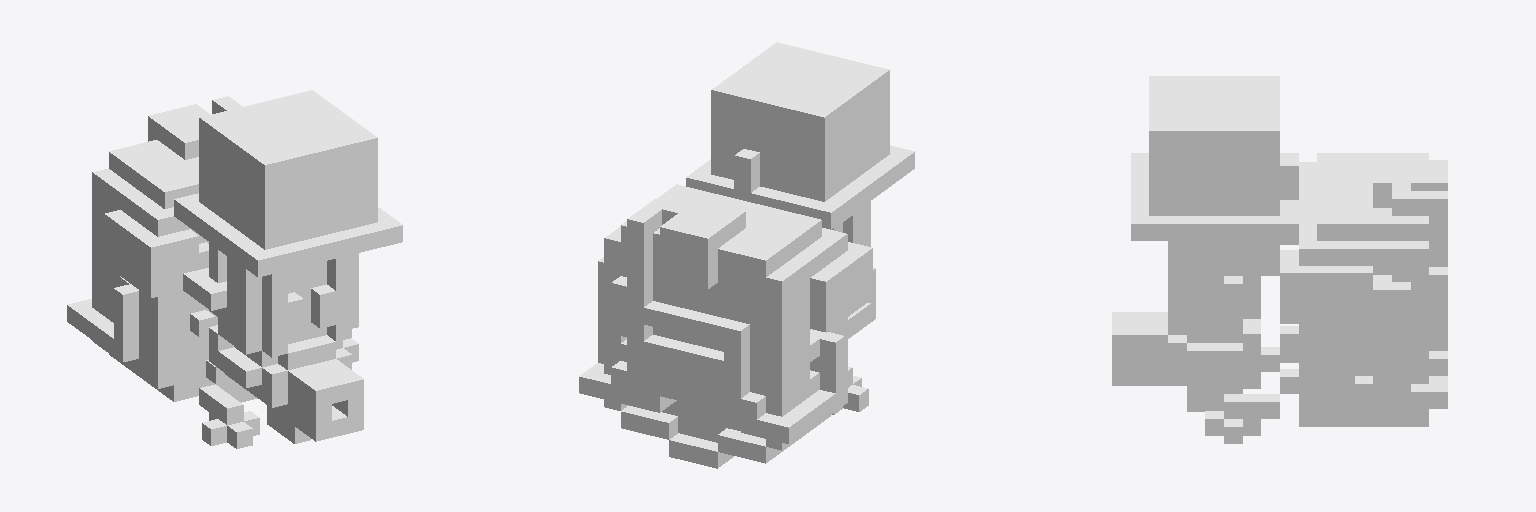
File: GunDrone.obj
3 views of the same model, side by side, from view 1: azimuth 30°, elevation 25°; view 2: azimuth 150°, elevation 25°; view 3: azimuth 270°, elevation 25° (orthographic).
Parts seen in each view (by area): view 1: object 1; view 2: object 1; view 3: object 1.
Boxes of the visible parts, x1,y1,x2,y2 form: object 1: [67, 90, 402, 448]; object 1: [579, 42, 914, 468]; object 1: [1112, 76, 1447, 443].
Bounding box in the file's own units: 1.3 × 1.8 × 1.8.